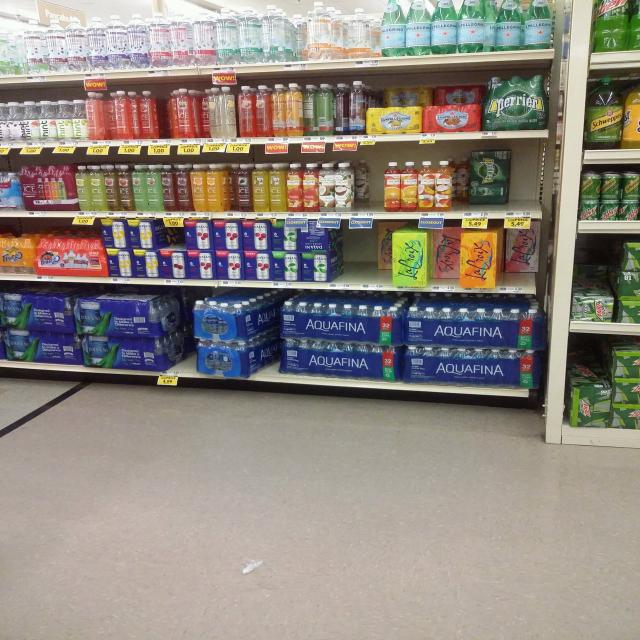void: (344, 228, 376, 277), (514, 150, 540, 203)
